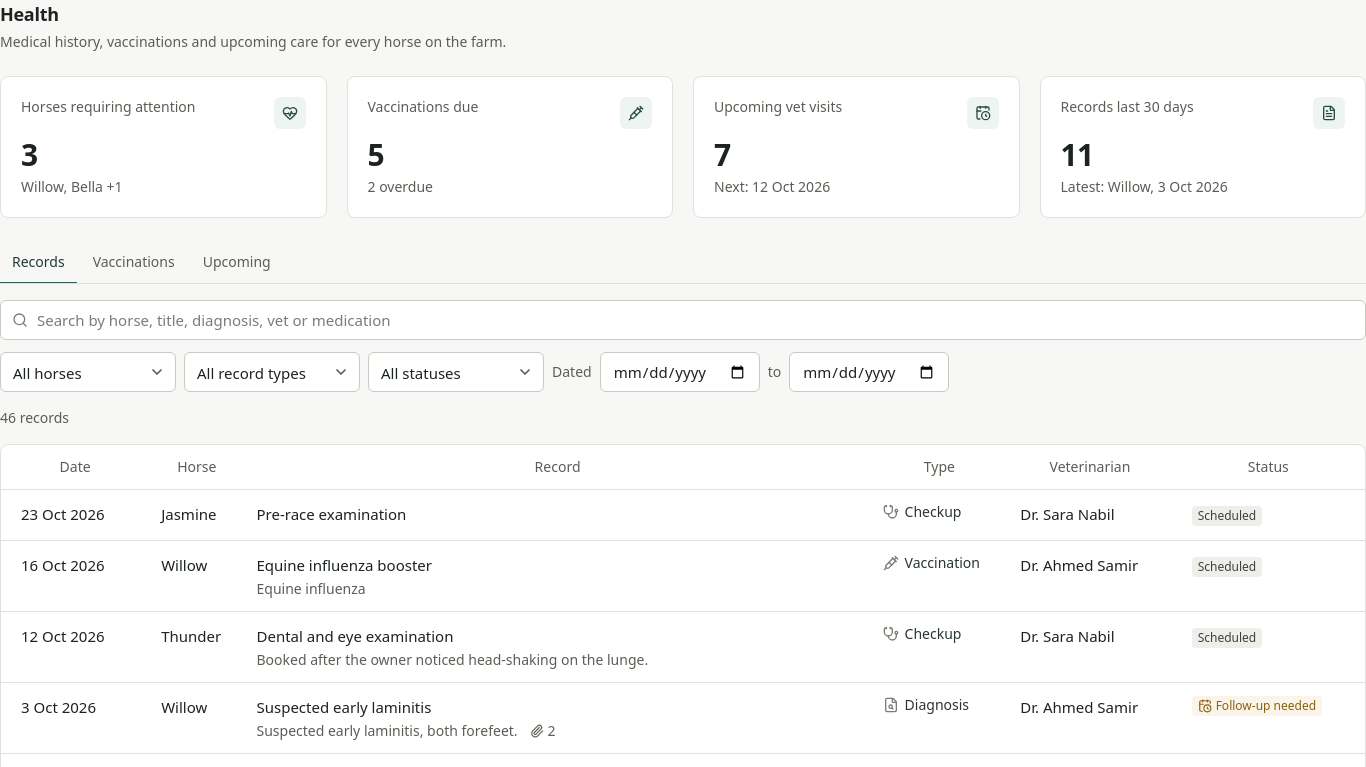
Scenario: MedicalOverviewPage › filters the list as the user searches
The width and height of the screenshot is (1366, 767).
Type "laminitis" into the search field named "search medical records" at {"x": 683, "y": 320}, box [0,300,1365,340]
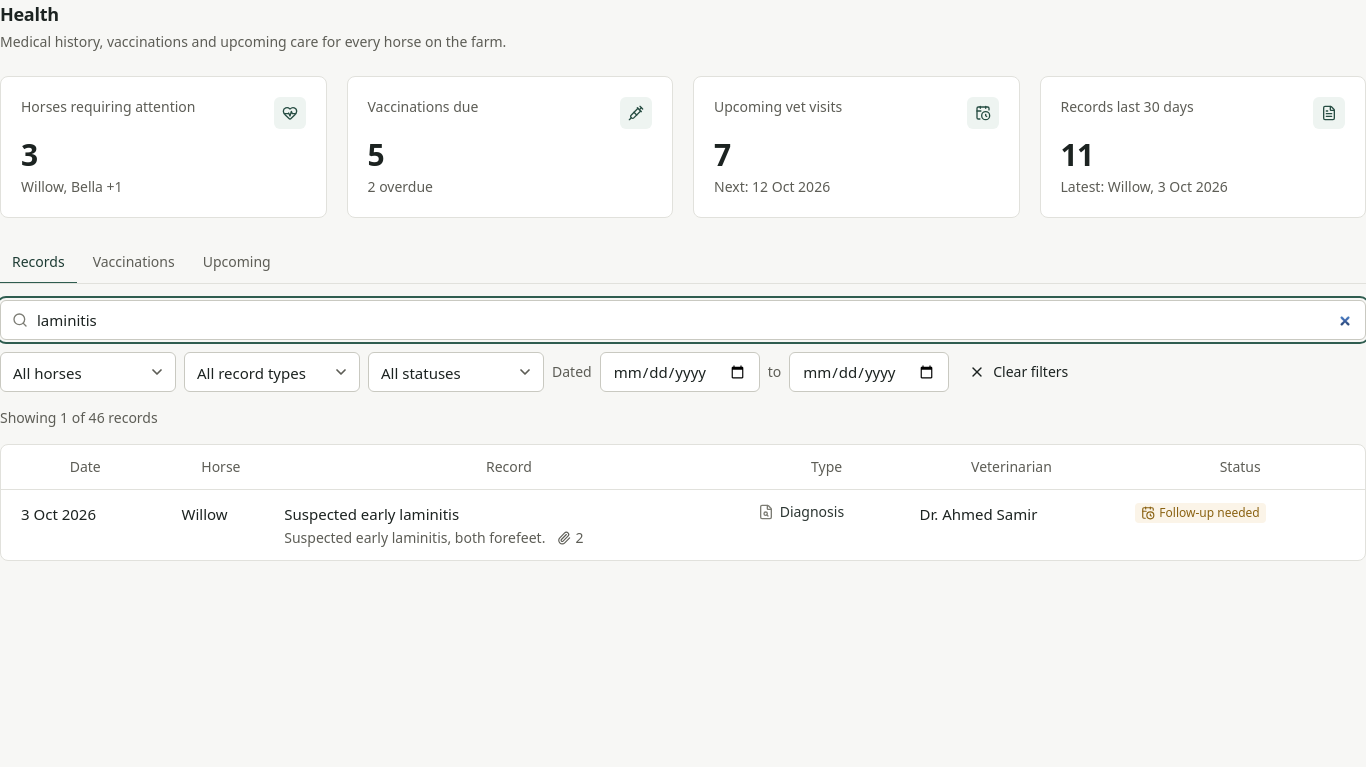
Result: the text "Showing 1 of 46 records" is shown at [0,408,158,427]
